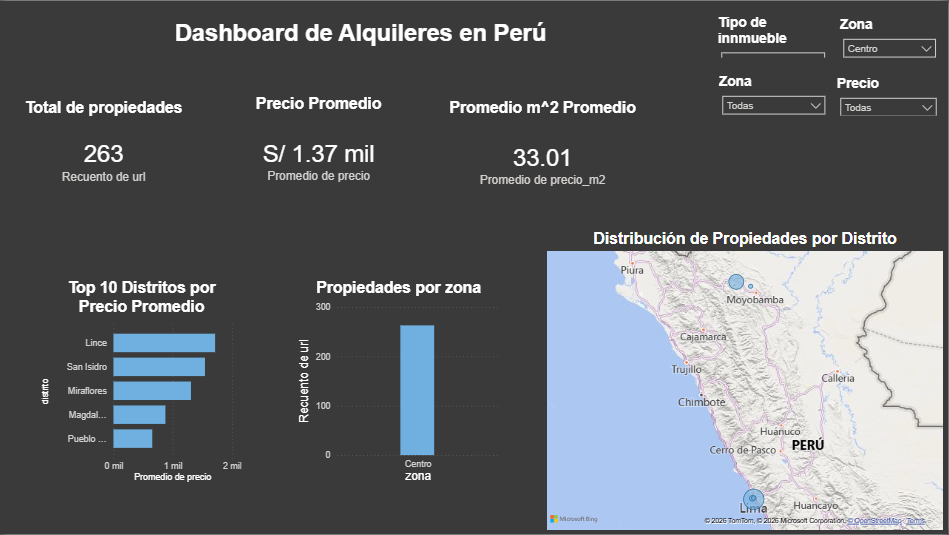

What the dashboard file says about the page in this screenshot:
{"tool":"powerbi","page":{"name":"Página 1","canvas":[1280,720],"ordinal":0},"visuals":[{"type":"card","title":"Total de propiedades","fields":{"Values":["CountNonNull(dataset_clean.url)"]},"box":[0,132,280,140],"z":0},{"type":"card","title":"Precio Promedio","fields":{"Values":["Avg(dataset_clean.precio)"]},"box":[290,127.5,280,150],"z":1000},{"type":"card","title":"Promedio m^2 Promedio","fields":{"Values":["Avg(dataset_clean.precio_m2)"]},"box":[593.8,132.5,280,150],"z":2000},{"type":"barChart","title":"Top 10 Distritos por Precio Promedio","fields":{"Category":["dataset_clean.distrito"],"Y":["Avg(dataset_clean.precio)"]},"box":[52,376,280,280],"z":3000},{"type":"clusteredColumnChart","title":"Propiedades por zona","fields":{"Category":["dataset_clean.zona"],"Y":["CountNonNull(dataset_clean.url)"]},"box":[398.8,376.2,280,280],"z":4000},{"type":"map","title":"Distribución de Propiedades por Distrito","fields":{"Category":["dataset_clean.distrito"],"Size":["CountNonNull(dataset_clean.url)"]},"box":[734,310,546,410],"z":5000},{"type":"textbox","box":[231.2,20,527.5,62.5],"z":5001},{"type":"slicer","title":"Zona","fields":{"Values":["dataset_clean.zona"]},"box":[1130,20,145,56.2],"z":5002},{"type":"slicer","title":"Tipo de innmueble","fields":{"Values":["dataset_clean.tipo_inmueble"]},"box":[965,17.5,160,58.8],"z":5003},{"type":"slicer","title":"Precio","fields":{"Values":["dataset_clean.precio_categoria"]},"box":[1125,100,150,55],"z":5004},{"type":"slicer","title":"Zona","fields":{"Values":["dataset_clean.dormitorios"]},"box":[966.2,97.5,158.8,68.8],"z":5005}]}

Visuals, with their boxes in screenshot pixels (x1, y1, x2, y2), scaled from the page's 1280x720 canvas onto the 949x535 screenshot:
"Total de propiedades" card: 0,98,208,202
"Precio Promedio" card: 215,95,423,206
"Promedio m^2 Promedio" card: 440,98,648,210
"Top 10 Distritos por Precio Promedio" barChart: 39,279,246,487
"Propiedades por zona" clusteredColumnChart: 296,280,503,488
"Distribución de Propiedades por Distrito" map: 544,230,948,534
textbox: 171,15,563,61
"Zona" slicer: 838,15,945,57
"Tipo de innmueble" slicer: 715,13,834,57
"Precio" slicer: 834,74,945,115
"Zona" slicer: 716,72,834,124
